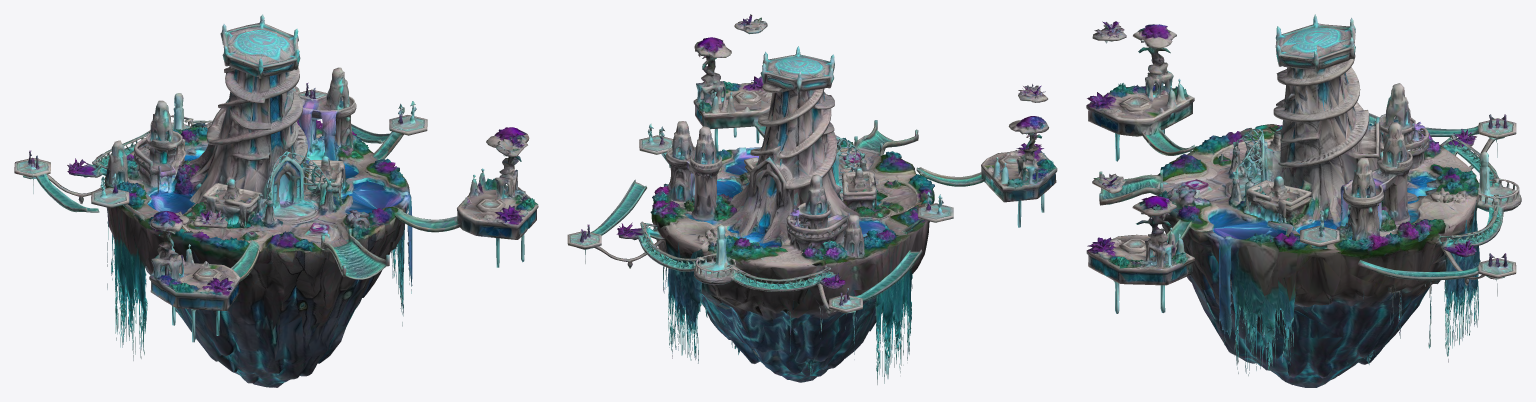
File: Azure_Citadel_of_the_.glb
The picture shows the model from 3 angles, left to right: view 1: azimuth 30°, elevation 25°; view 2: azimuth 150°, elevation 25°; view 3: azimuth 270°, elevation 25°; orthographic projection. The views are drawn at different scales.
Parts seen in each view (by area): view 1: Azure_Citadel_of_the_; view 2: Azure_Citadel_of_the_; view 3: Azure_Citadel_of_the_.
Part boxes in pixels (x1,y1,x2,y2): Azure_Citadel_of_the_: (14,14,538,387); Azure_Citadel_of_the_: (567,14,1057,384); Azure_Citadel_of_the_: (1086,14,1521,387).
Size of the model in its own units: 1.9 by 1.7 by 1.86.
1 material, 1 textured.
